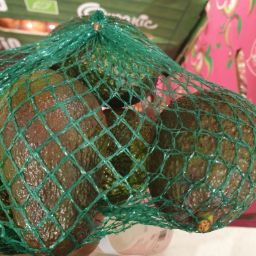Avocado: (4, 73, 112, 247), (152, 82, 256, 238), (56, 29, 182, 98)
